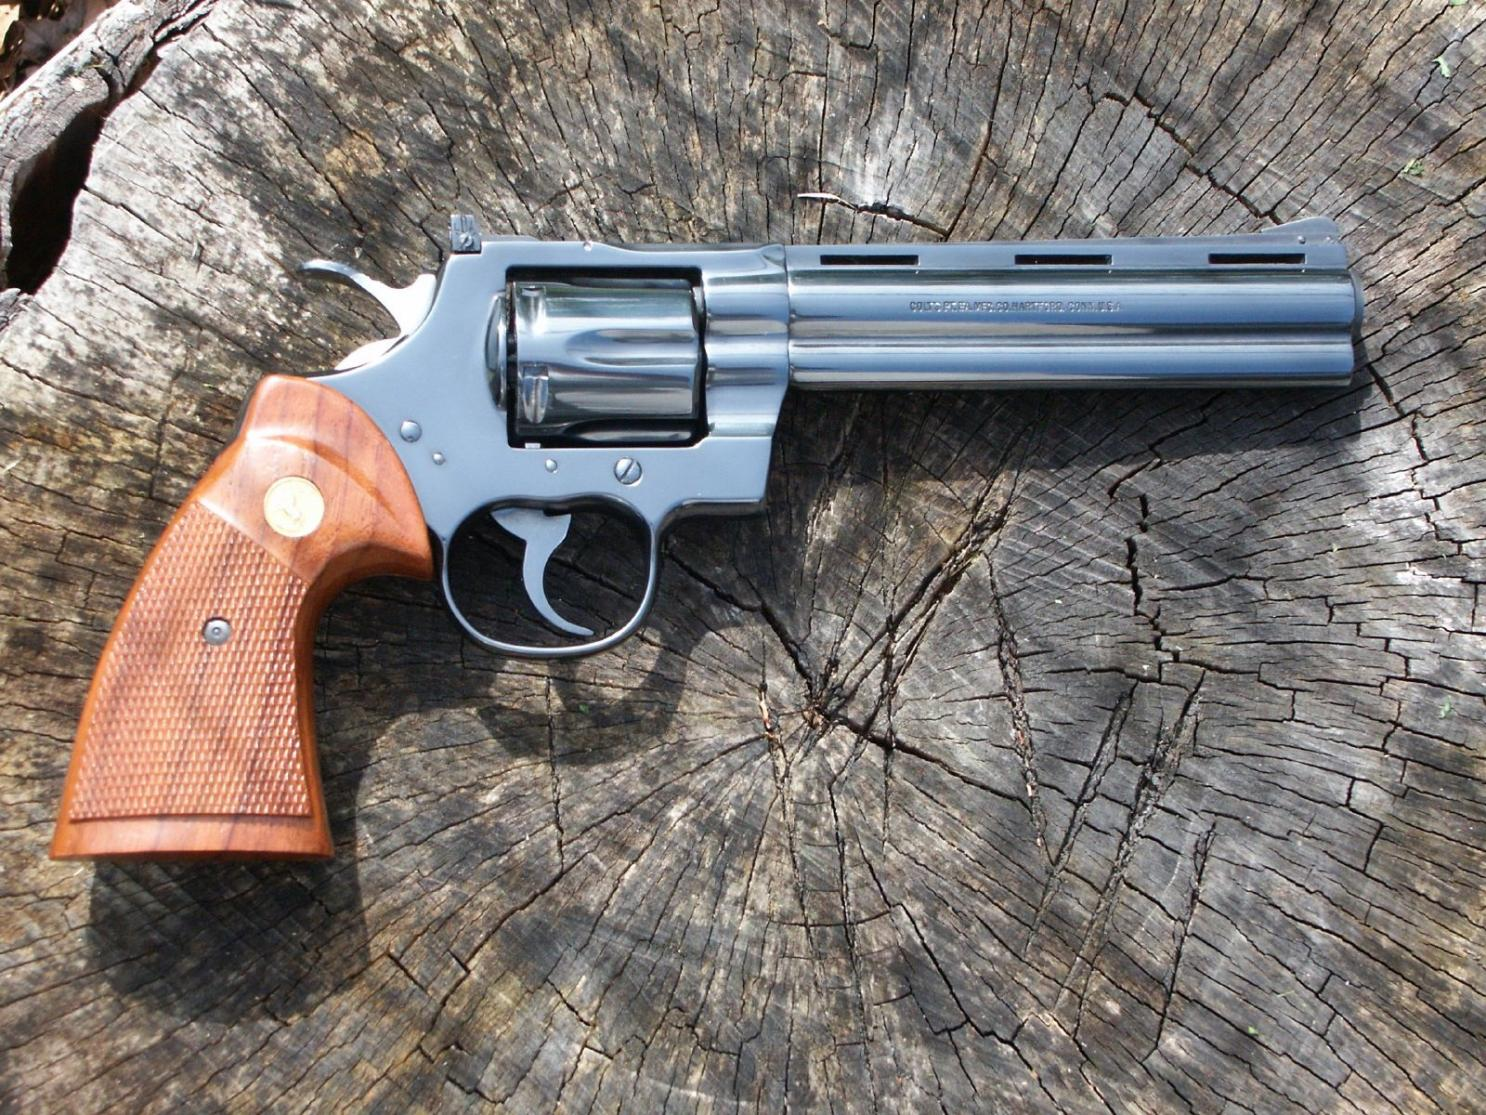Revolver: (44, 169, 1401, 932)
